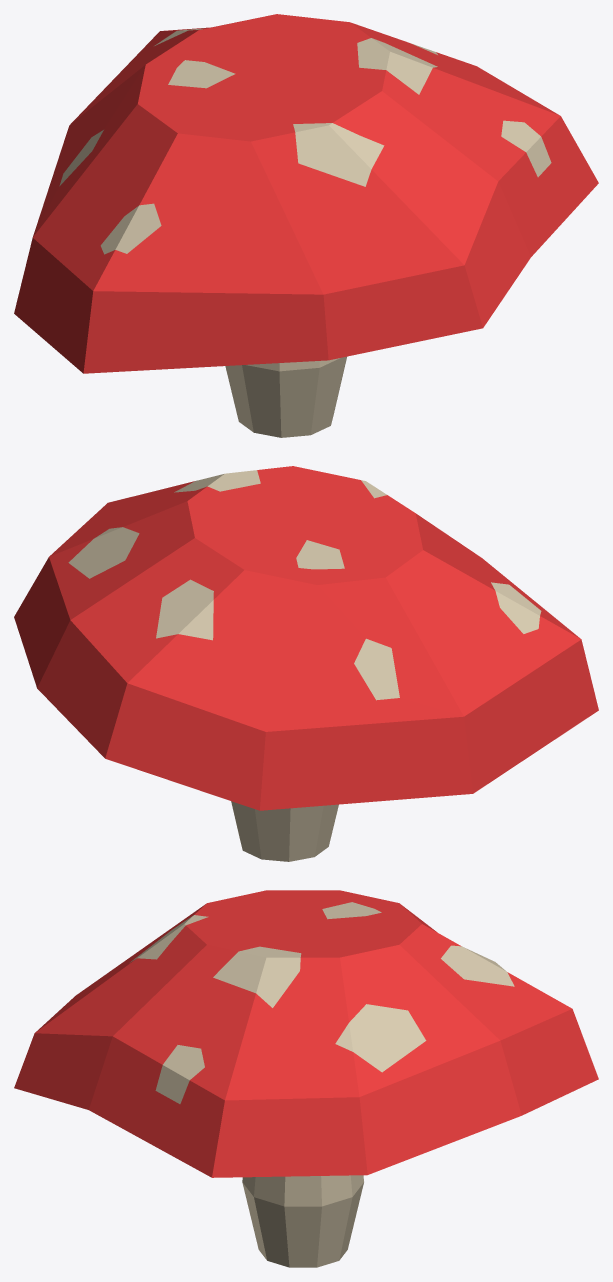
File: mushroom.fbx
3 renders of one model, top to bottom at view 1: azimuth 30°, elevation 25°; view 2: azimuth 150°, elevation 25°; view 3: azimuth 270°, elevation 25°, orthographic. The views are drawn at different scales.
Visible parts, largest first — view 1: Mushrooms; view 2: Mushrooms; view 3: Mushrooms.
Boxes of the visible parts, box(x1,y1,x2,y2) form: Mushrooms: box(14, 14, 598, 437); Mushrooms: box(14, 466, 598, 861); Mushrooms: box(14, 890, 598, 1267).
Size of the model in its own units: 282 by 182 by 293.
